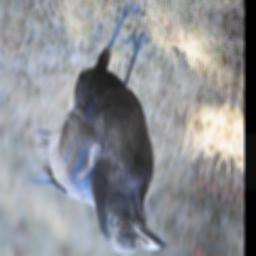Crow: (21, 0, 198, 256)
